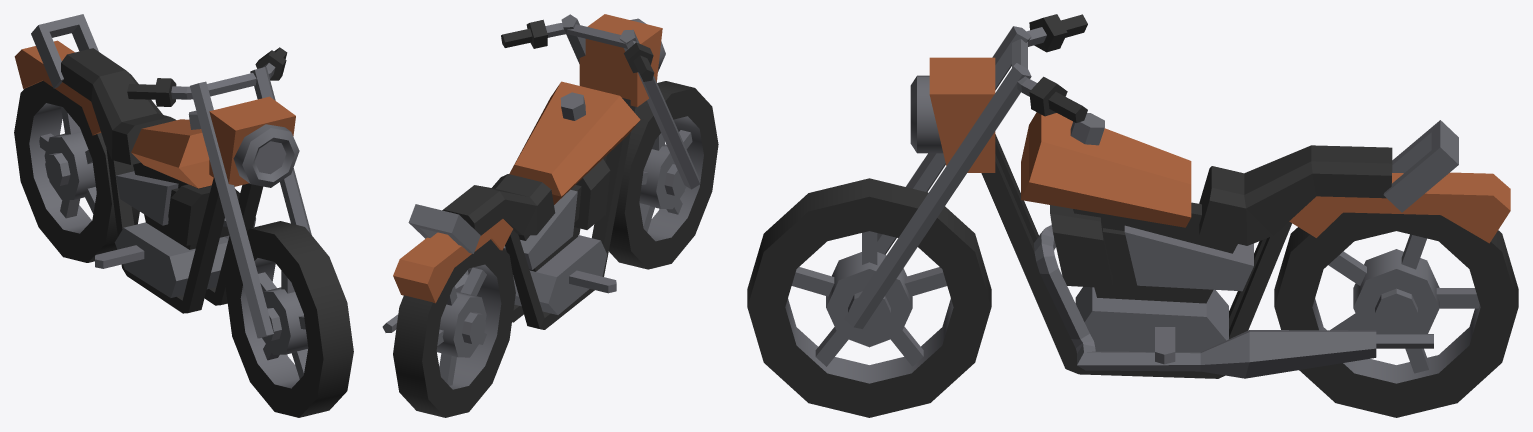
Rendered from Bike.fbx.
3 renders of one model, left to right at view 1: azimuth 30°, elevation 25°; view 2: azimuth 150°, elevation 25°; view 3: azimuth 270°, elevation 25°, orthographic. The views are drawn at different scales.
Visible parts, largest first — view 1: Bike; view 2: Bike; view 3: Bike.
Boxes of the visible parts, bbox=[...] form: Bike: bbox=[14, 14, 353, 417]; Bike: bbox=[382, 14, 718, 417]; Bike: bbox=[747, 14, 1518, 417].
Bounding box in the file's own units: 32.16 × 55.82 × 108.
